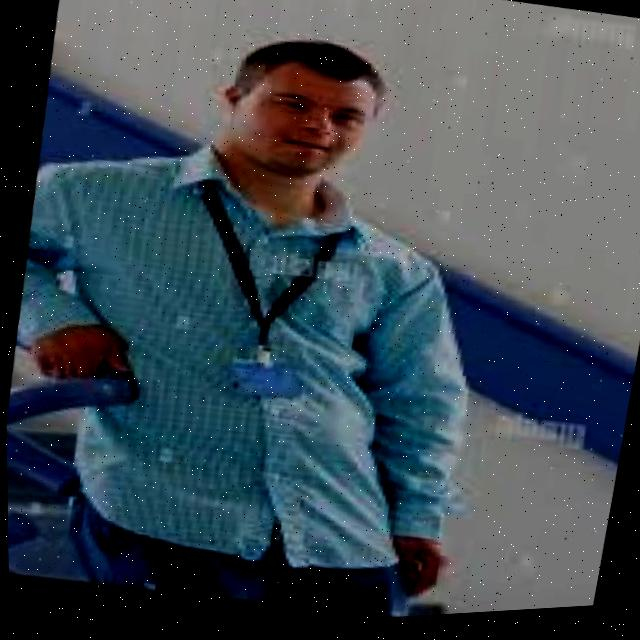id_card: (164, 160, 355, 421)
